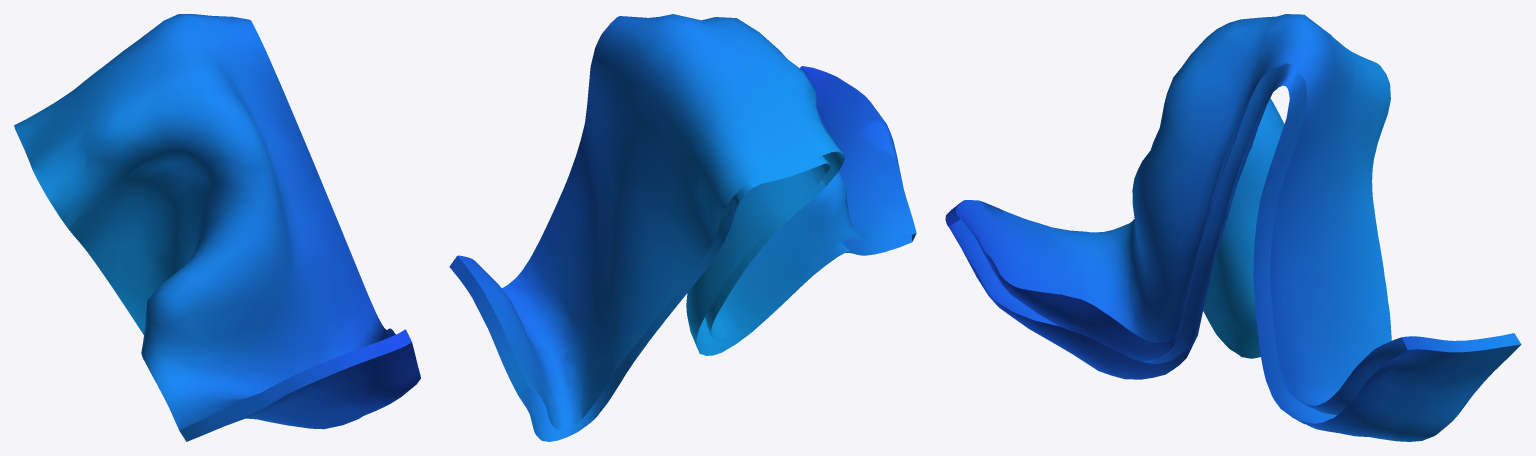
Rendered from s1_torso.fbx.
3 renders of one model, left to right at view 1: azimuth 30°, elevation 25°; view 2: azimuth 150°, elevation 25°; view 3: azimuth 270°, elevation 25°, orthographic. The views are drawn at different scales.
Visible parts, largest first — view 1: s1_torso; view 2: s1_torso; view 3: s1_torso.
Part boxes in pixels (bbox=[...]): s1_torso: bbox=[14, 14, 420, 441]; s1_torso: bbox=[449, 14, 916, 441]; s1_torso: bbox=[945, 14, 1521, 441].
Bounding box in the file's own units: 188 × 218 × 288.
